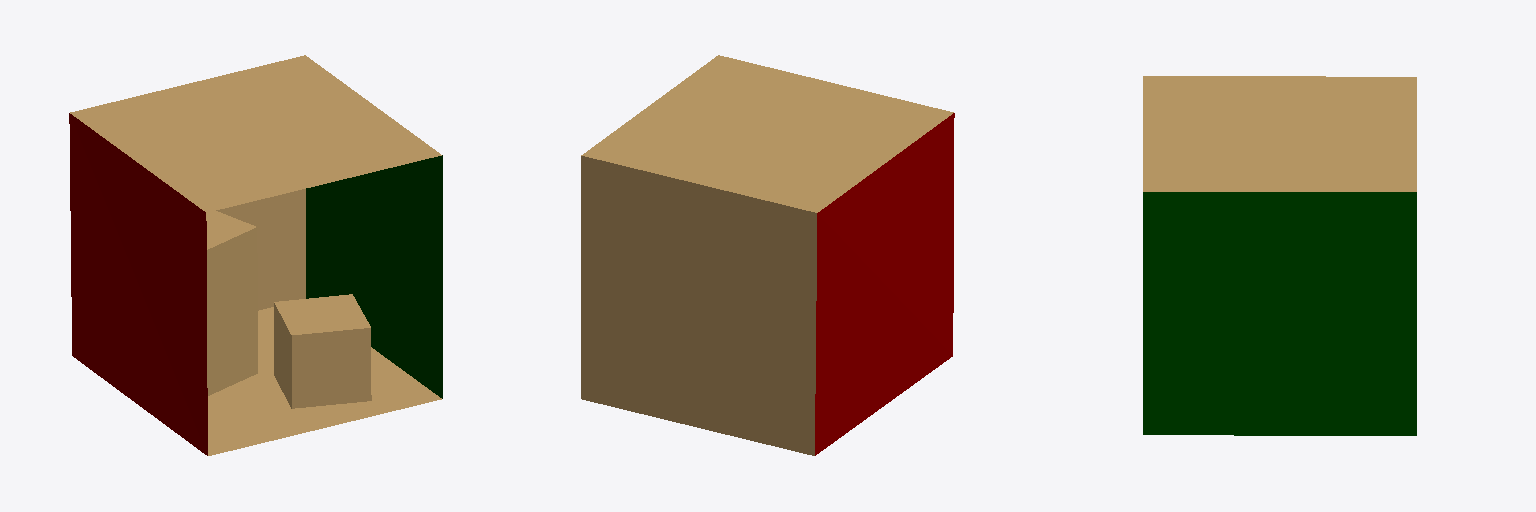
File: cornell-box-cycles-2.obj
3 renders of one model, left to right at view 1: azimuth 30°, elevation 25°; view 2: azimuth 150°, elevation 25°; view 3: azimuth 270°, elevation 25°, orthographic.
Visible parts, largest first — view 1: left_wall, ceiling, right_wall, floor, short_box, tall_box, back_wall; view 2: back_wall, left_wall, ceiling; view 3: right_wall, ceiling.
Part boxes in pixels (x1,y1,x2,y2): left_wall: (69, 113, 207, 455); ceiling: (70, 55, 441, 212); right_wall: (306, 155, 442, 398); floor: (208, 307, 441, 455); short_box: (274, 294, 371, 408); tall_box: (206, 211, 257, 395); back_wall: (216, 189, 305, 310); back_wall: (581, 156, 816, 455); left_wall: (815, 113, 954, 455); ceiling: (581, 55, 953, 212); right_wall: (1143, 192, 1416, 435); ceiling: (1143, 76, 1416, 191).
Bounding box in the file's own units: 5.56 × 5.49 × 5.6.